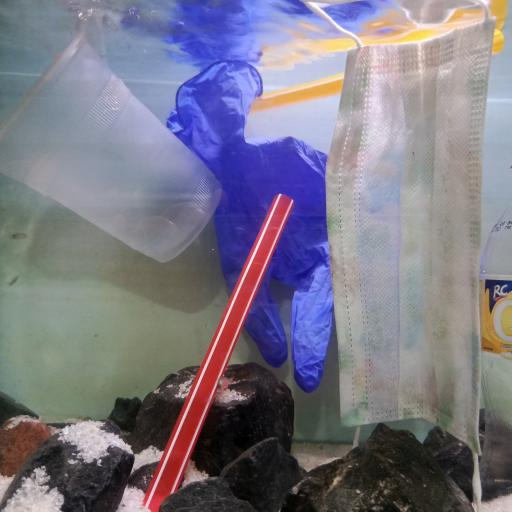glove: (168, 59, 332, 394)
mask: (300, 0, 482, 512)
plastic_bottle: (484, 198, 512, 512)
plastic_cup: (0, 35, 225, 260)
plastic_straw: (145, 193, 294, 512), (252, 27, 508, 145)
